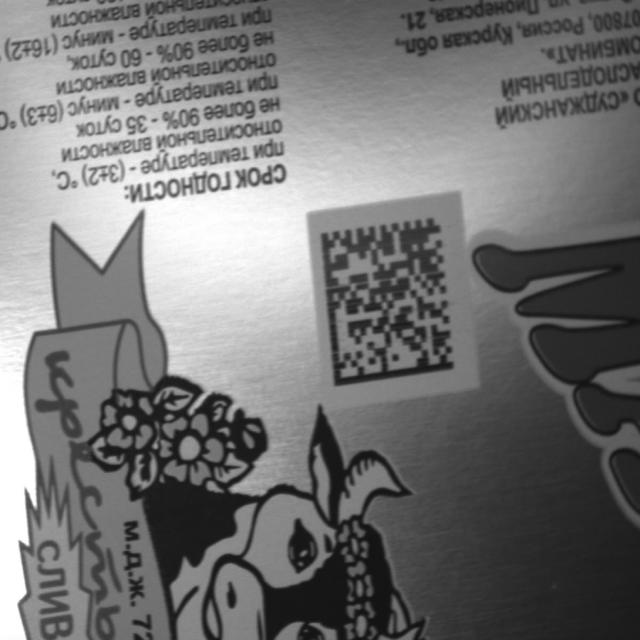datamatrix: (321, 218, 456, 389)
